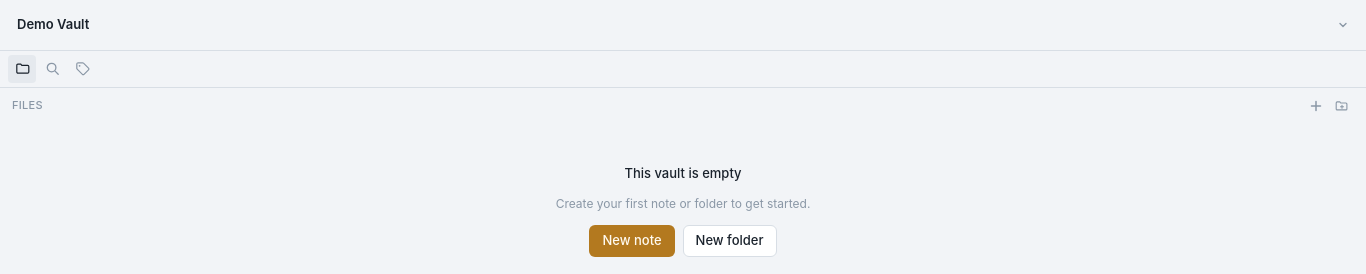
LeftSidebar › switches to the Tags sub-view and fetches vault tags
The width and height of the screenshot is (1366, 274).
Expected: the text "Demo Vault" is shown, [17,15,89,34]
Click the tab named "Tags".
click(82, 68)  # box [68,54,96,82]
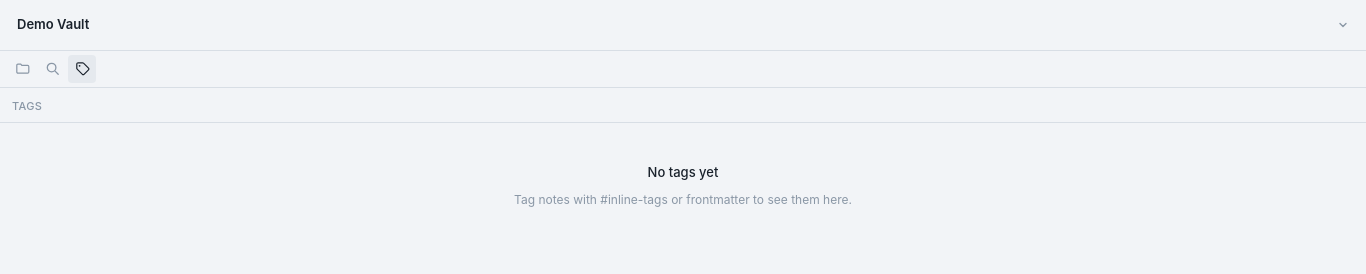
Now the text "No tags yet" is shown, box [648,163,718,182]
